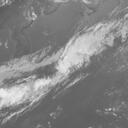cyclone: (39, 38, 84, 83)
